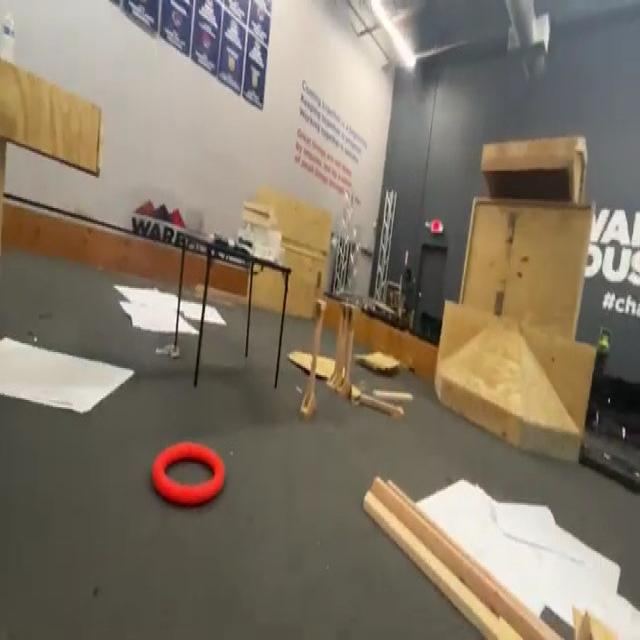note: (154, 446, 228, 508)
